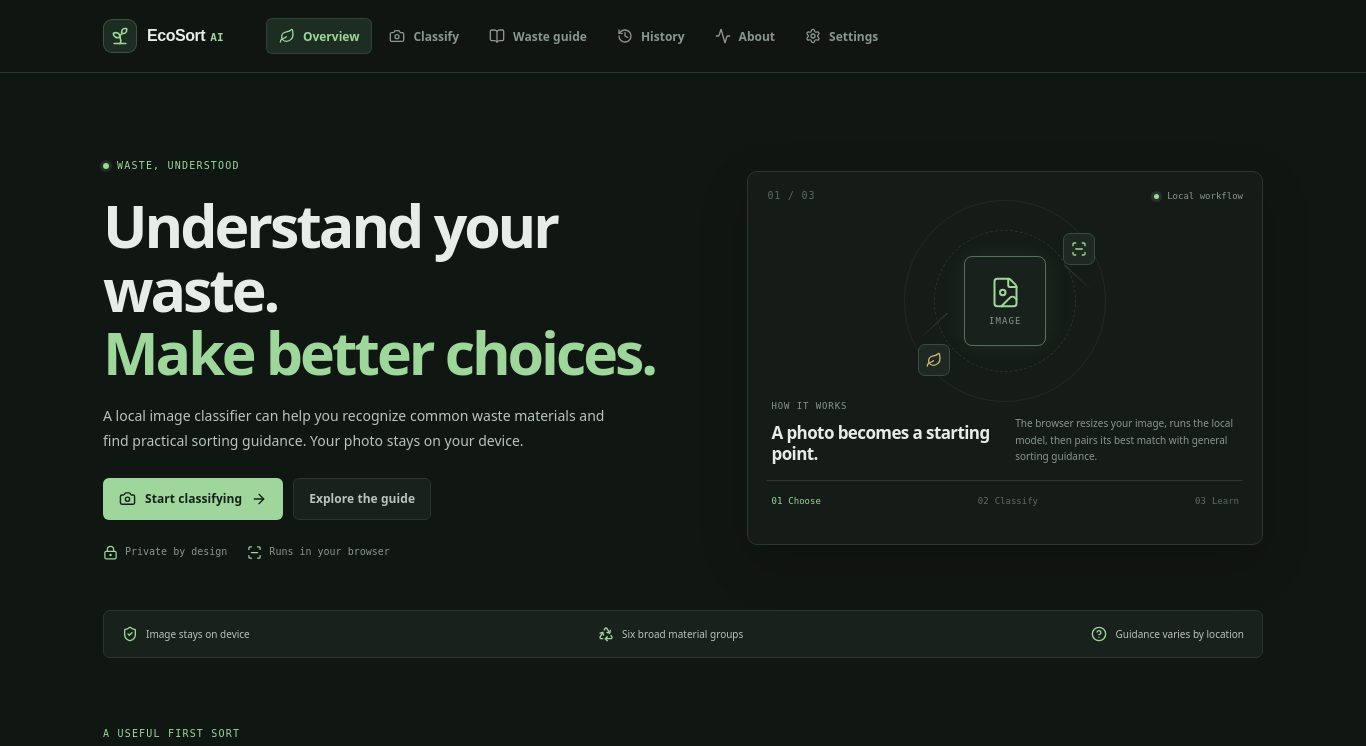
Test: EcoSort routes and interactions › renders the home route and navigates to the main pages
The image size is (1366, 746).
Check: the heading "Understand your waste.Make better choices." is shown, box [103,194,662,385]
Click the link "Waste guide".
click(538, 36)  # box [489,28,587,44]
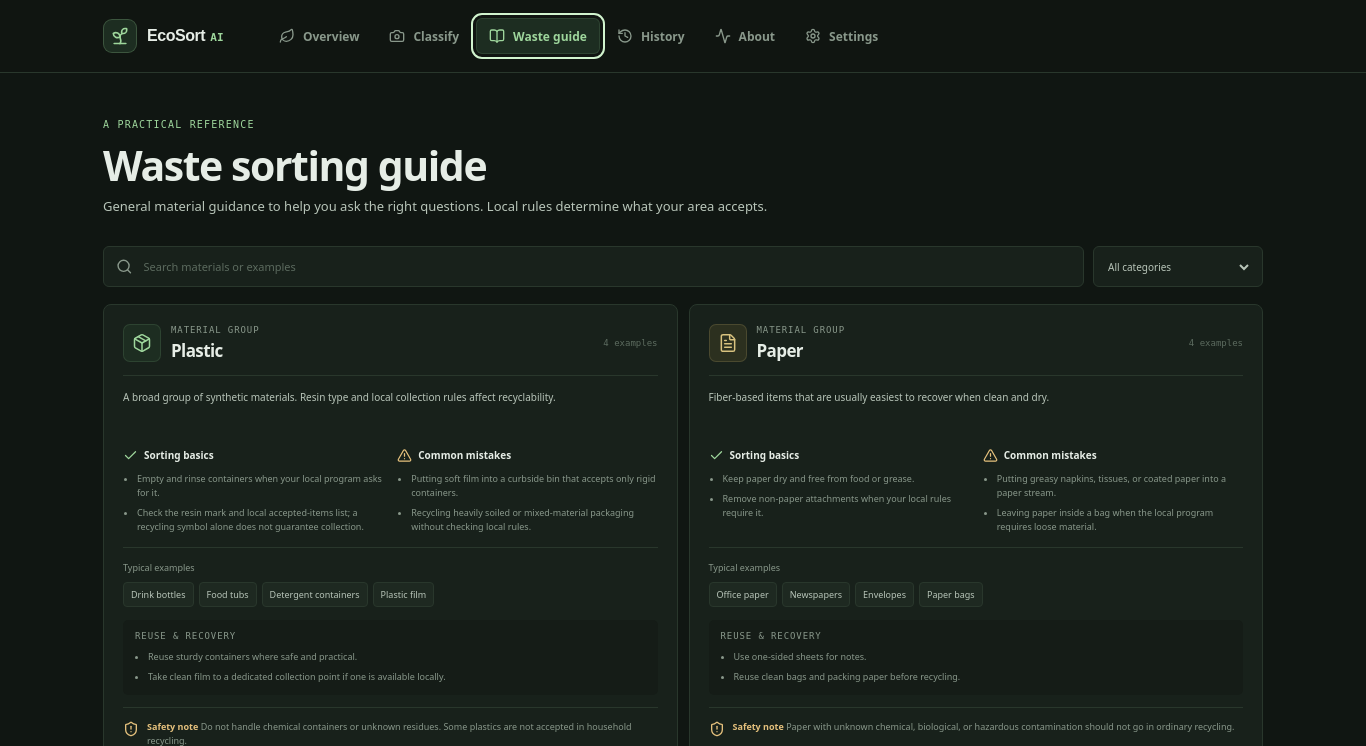
Check: the heading "Waste sorting guide" is shown, box [103,137,486,193]
Click the link "History".
click(651, 36)  # box [617,28,685,44]
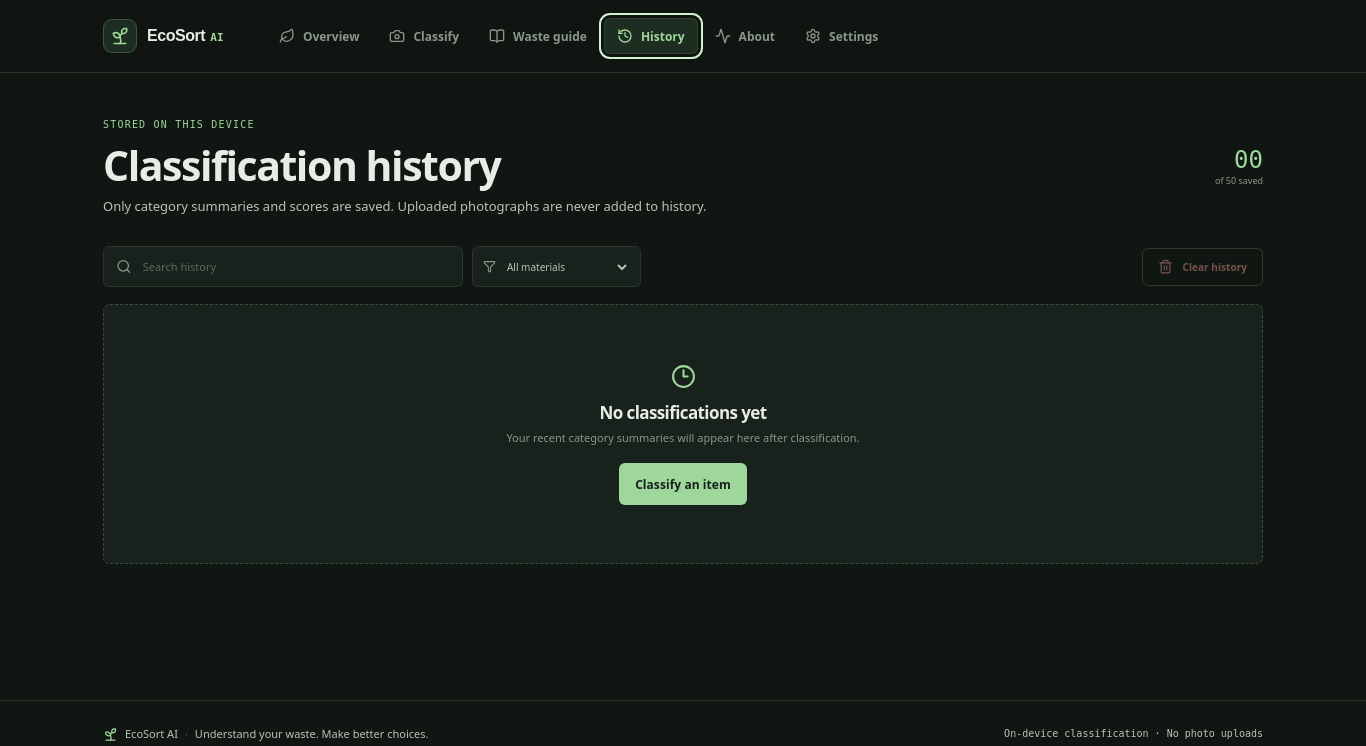
Check: the heading "Classification history" is shown, box [103,137,500,193]
Click the link "Settings".
click(842, 36)  # box [805,28,878,44]
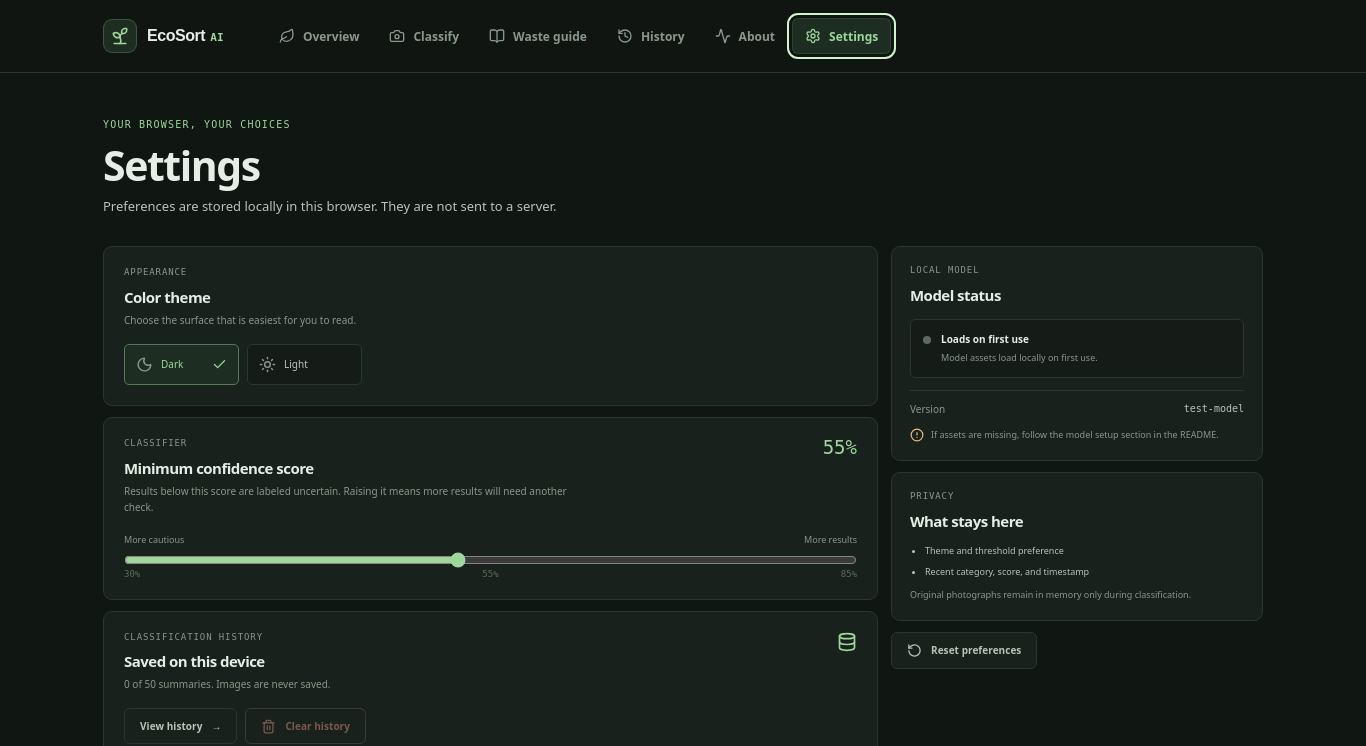
Check: the heading "Settings" is shown, box [103,137,260,193]
